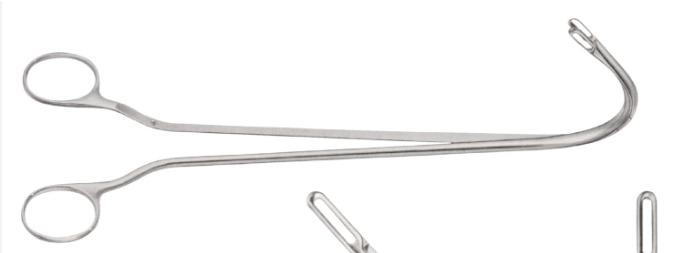Randall: (17, 10, 641, 246)
